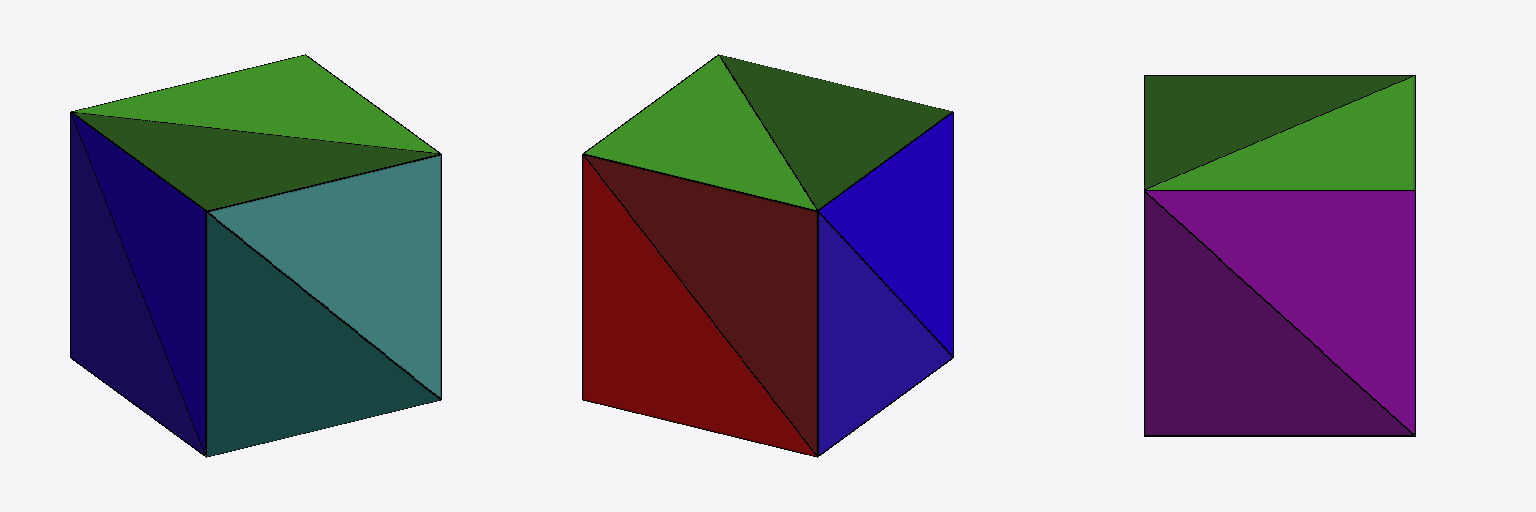
3 renders of one model, left to right at view 1: azimuth 30°, elevation 25°; view 2: azimuth 150°, elevation 25°; view 3: azimuth 270°, elevation 25°, orthographic.
Visible parts, largest first — view 1: pCube1; view 2: pCube1; view 3: pCube1.
Boxes of the visible parts, x1=… form: pCube1: x1=70, y1=54, x2=441, y2=457; pCube1: x1=582, y1=54, x2=953, y2=457; pCube1: x1=1144, y1=75, x2=1415, y2=436.
Bounding box in the file's own units: 1 × 1 × 1.
Materials: 1 (1 with a texture image).